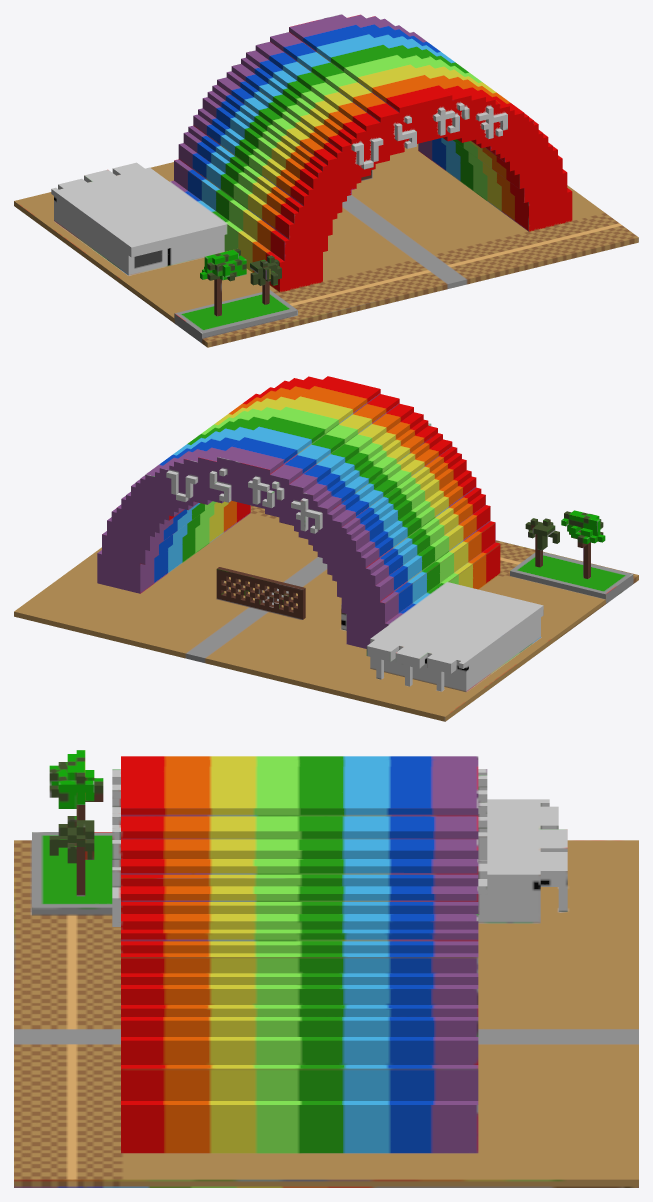
Rendered from hirakawadoubutsuen.glb.
3 views of the same model, one above another, from view 1: azimuth 30°, elevation 25°; view 2: azimuth 150°, elevation 25°; view 3: azimuth 270°, elevation 25° (orthographic). The views are drawn at different scales.
Visible parts, largest first — view 1: hirakawadoubutsuen; view 2: hirakawadoubutsuen; view 3: hirakawadoubutsuen.
Boxes of the visible parts, x1,y1,x2,y2 form: hirakawadoubutsuen: (14, 14, 638, 347); hirakawadoubutsuen: (14, 376, 638, 721); hirakawadoubutsuen: (14, 750, 638, 1187).
Size of the model in its own units: 1.8 by 0.64 by 1.4.
Materials: 1 (1 with a texture image).
